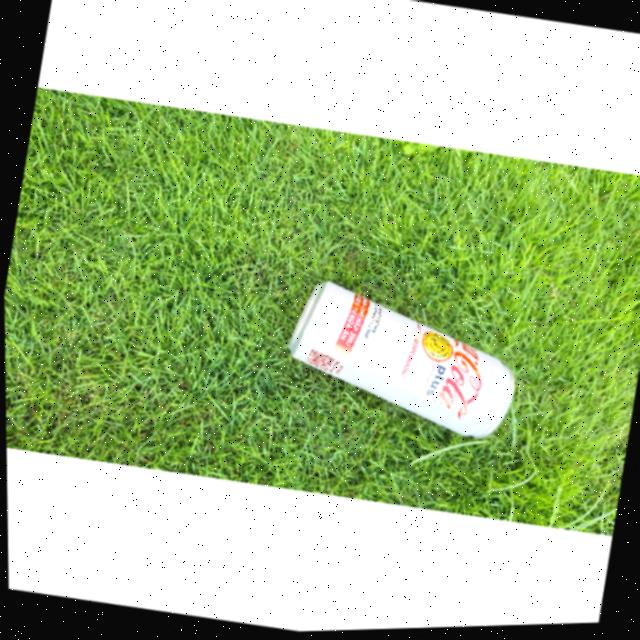Coca Cola Plus: (275, 269, 531, 449)
